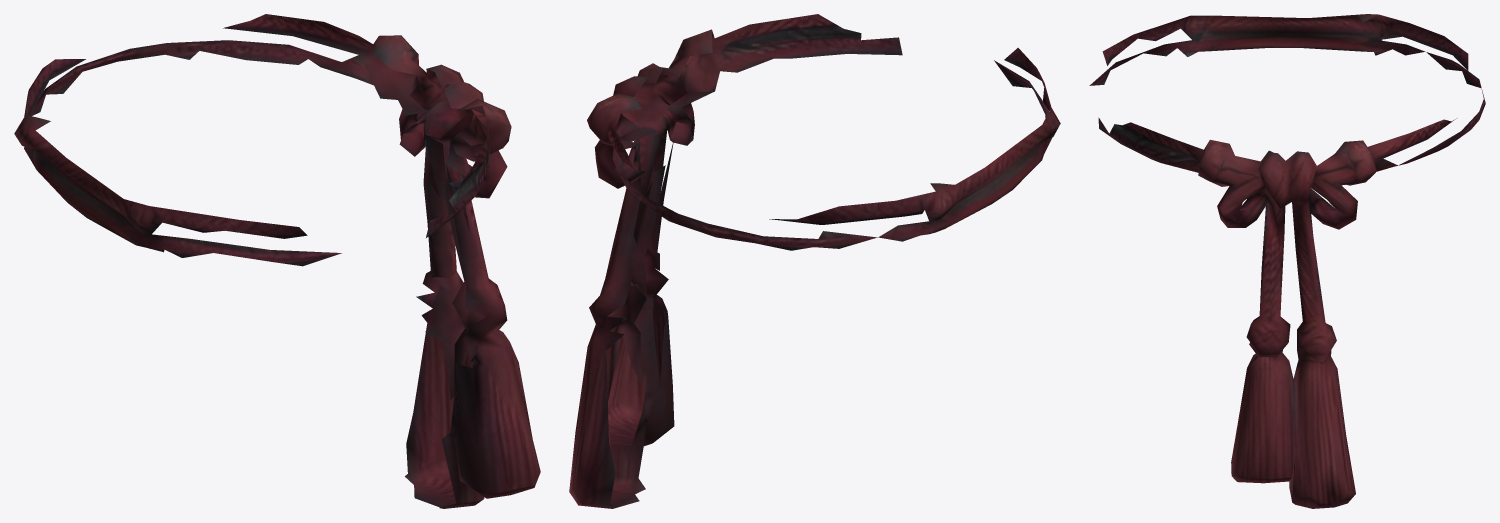
The model's file is belt.glb.
The picture shows the model from 3 angles, left to right: view 1: azimuth 30°, elevation 25°; view 2: azimuth 150°, elevation 25°; view 3: azimuth 270°, elevation 25°; orthographic projection. The views are drawn at different scales.
Visible parts, largest first — view 1: belt; view 2: belt; view 3: belt.
Boxes of the visible parts, box(x1,y1,x2,y2) form: belt: box(14, 14, 540, 508); belt: box(569, 14, 1060, 508); belt: box(1089, 14, 1485, 508).
Bounding box in the file's own units: 0.2274 × 0.2202 × 0.2281.
1 material, 1 textured.
